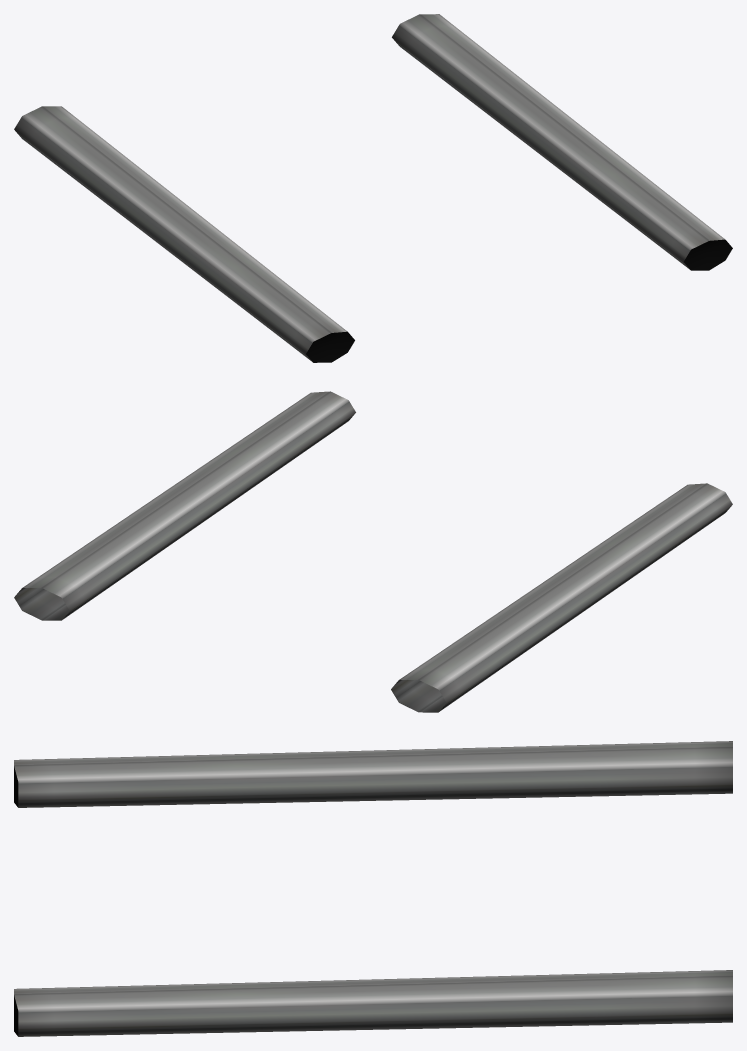
File: exh_lr_sv1.glb
3 renders of one model, top to bottom at view 1: azimuth 30°, elevation 25°; view 2: azimuth 150°, elevation 25°; view 3: azimuth 270°, elevation 25°, orthographic. The views are drawn at different scales.
Parts seen in each view (by area): view 1: exh_lr_sv1; view 2: exh_lr_sv1; view 3: exh_lr_sv1.
Boxes of the visible parts, x1,y1,x2,y2 form: exh_lr_sv1: (14,14,732,362); exh_lr_sv1: (14,391,732,712); exh_lr_sv1: (14,741,732,1036).
Bounding box in the file's own units: 1.45 × 0.142 × 1.67.
1 material, 1 textured.
